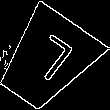L_SW: (18, 31, 76, 90)
